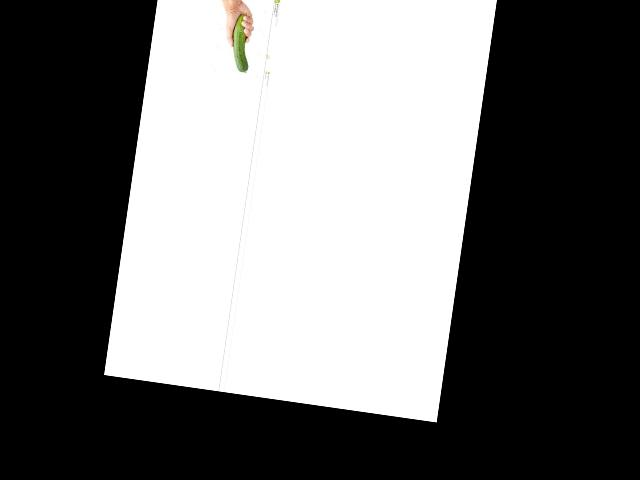cucumber: (228, 14, 255, 73)
